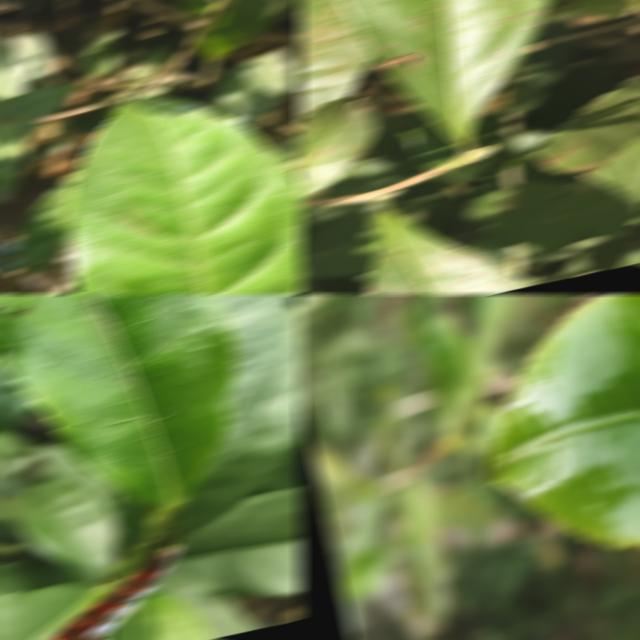Leaf: (0, 294, 238, 508), (67, 96, 303, 294), (484, 294, 640, 546), (339, 0, 552, 146), (479, 74, 640, 249), (178, 308, 303, 531), (194, 294, 291, 486), (162, 488, 303, 594), (366, 209, 536, 294), (0, 482, 118, 584), (297, 0, 372, 119), (393, 477, 451, 626), (14, 172, 79, 294), (297, 99, 377, 195), (210, 47, 297, 126), (0, 584, 101, 640), (297, 210, 379, 278), (101, 591, 213, 640), (197, 0, 292, 57), (409, 294, 475, 369), (444, 118, 520, 181), (461, 294, 514, 374), (0, 35, 52, 98), (0, 85, 75, 121), (400, 122, 460, 167), (0, 560, 75, 596), (0, 356, 34, 431), (0, 123, 29, 202), (570, 0, 640, 17), (177, 0, 218, 16)
